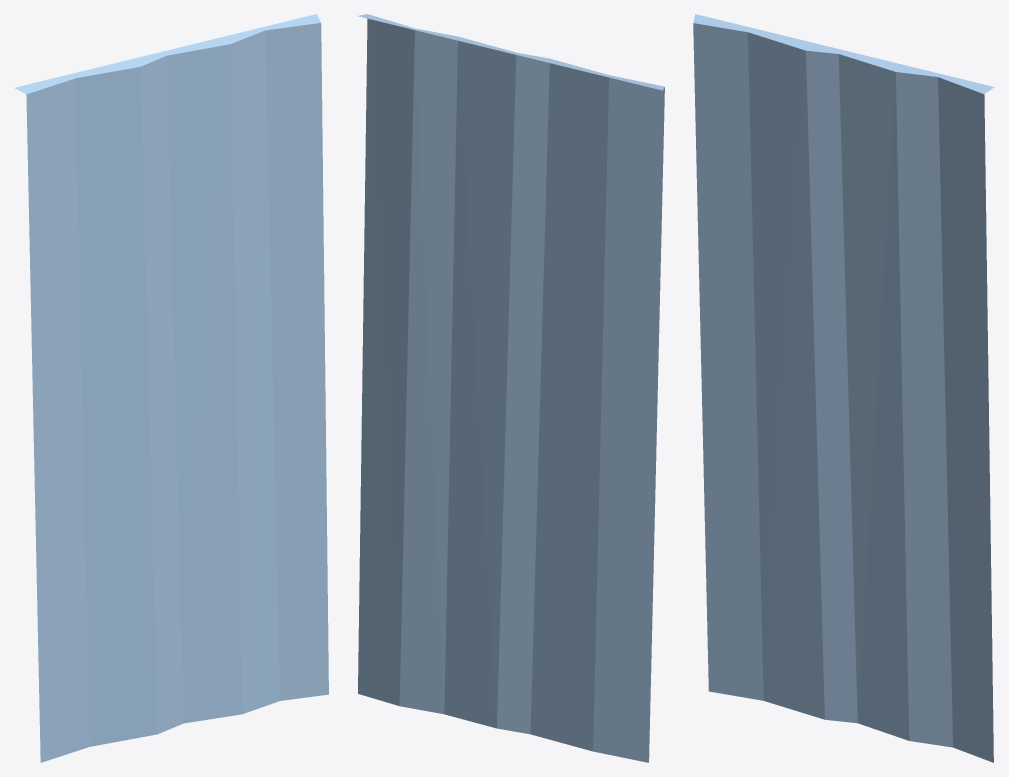
File: Waterfall_Straight_Medium_01.fbx
The picture shows the model from 3 angles, left to right: view 1: azimuth 30°, elevation 25°; view 2: azimuth 150°, elevation 25°; view 3: azimuth 330°, elevation 25°; orthographic projection. The views are drawn at different scales.
Visible parts, largest first — view 1: Waterfall_Straight_Medium_01; view 2: Waterfall_Straight_Medium_01; view 3: Waterfall_Straight_Medium_01.
Part boxes in pixels (x1,y1,x2,y2): Waterfall_Straight_Medium_01: [14, 14, 328, 762]; Waterfall_Straight_Medium_01: [357, 14, 664, 762]; Waterfall_Straight_Medium_01: [693, 14, 994, 762].
Bounding box in the file's own units: 64.17 × 135 × 2.68.
